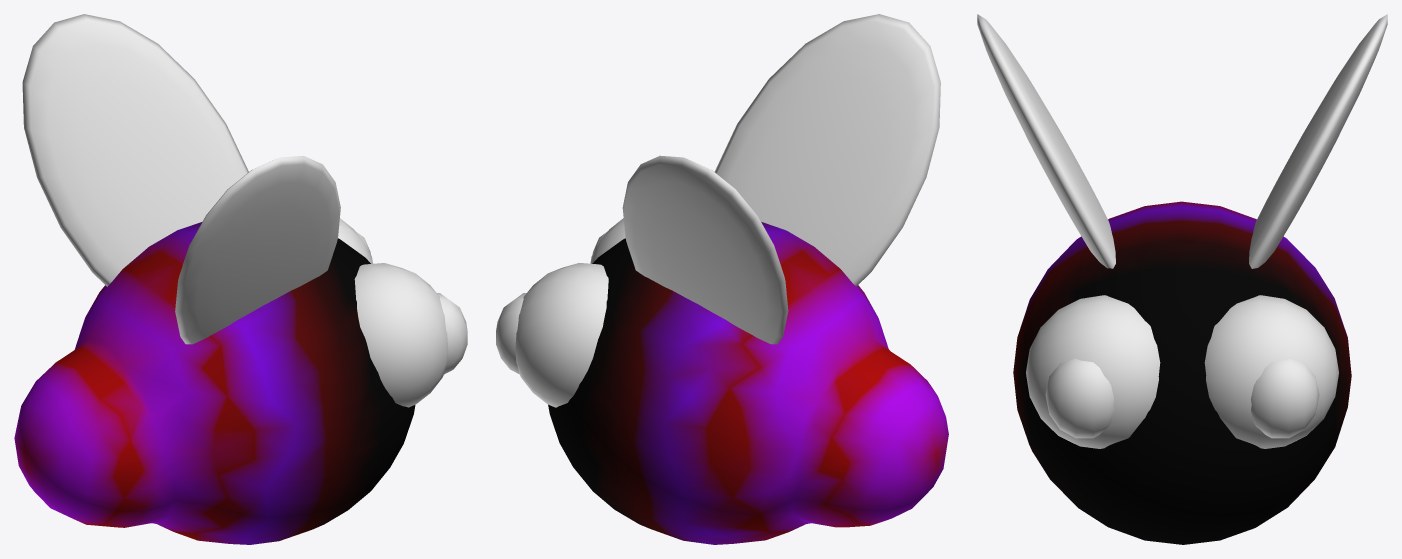
The model's file is prop-fly.glb.
The picture shows the model from 3 angles, left to right: view 1: azimuth 30°, elevation 25°; view 2: azimuth 150°, elevation 25°; view 3: azimuth 270°, elevation 25°; orthographic projection. The views are drawn at different scales.
Visible parts, largest first — view 1: flyBody, wingMesh_R, wingMesh_L, flyEyes, flyPupils; view 2: flyBody, wingMesh_L, wingMesh_R, flyEyes, flyPupils; view 3: flyBody, flyEyes, flyPupils, wingMesh_L, wingMesh_R.
Part boxes in pixels (left/top/right/bottom): flyBody: left=14, top=222, right=415, bottom=544; wingMesh_R: left=22, top=14, right=248, bottom=286; wingMesh_L: left=175, top=156, right=340, bottom=344; flyEyes: left=338, top=218, right=448, bottom=407; flyPupils: left=355, top=231, right=467, bottom=374; flyBody: left=548, top=222, right=948, bottom=544; wingMesh_L: left=714, top=14, right=940, bottom=286; wingMesh_R: left=622, top=155, right=788, bottom=344; flyEyes: left=515, top=218, right=625, bottom=407; flyPupils: left=496, top=231, right=607, bottom=374; flyBody: left=1013, top=201, right=1351, bottom=544; flyEyes: left=1026, top=295, right=1338, bottom=448; flyPupils: left=1045, top=358, right=1319, bottom=438; wingMesh_L: left=977, top=14, right=1115, bottom=268; wingMesh_R: left=1249, top=14, right=1387, bottom=268.
Bounding box in the file's own units: 0.7051 × 0.7953 × 0.6289.
